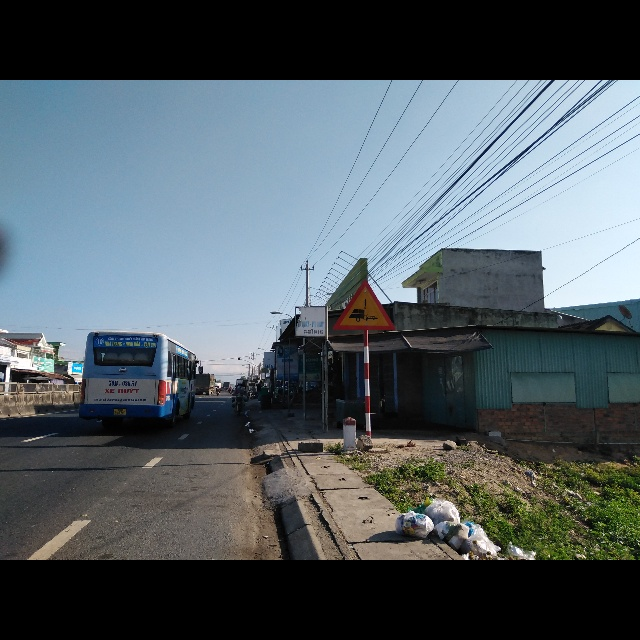Đoạn đường hay xảy ra tai nạn: (332, 278, 397, 332)
